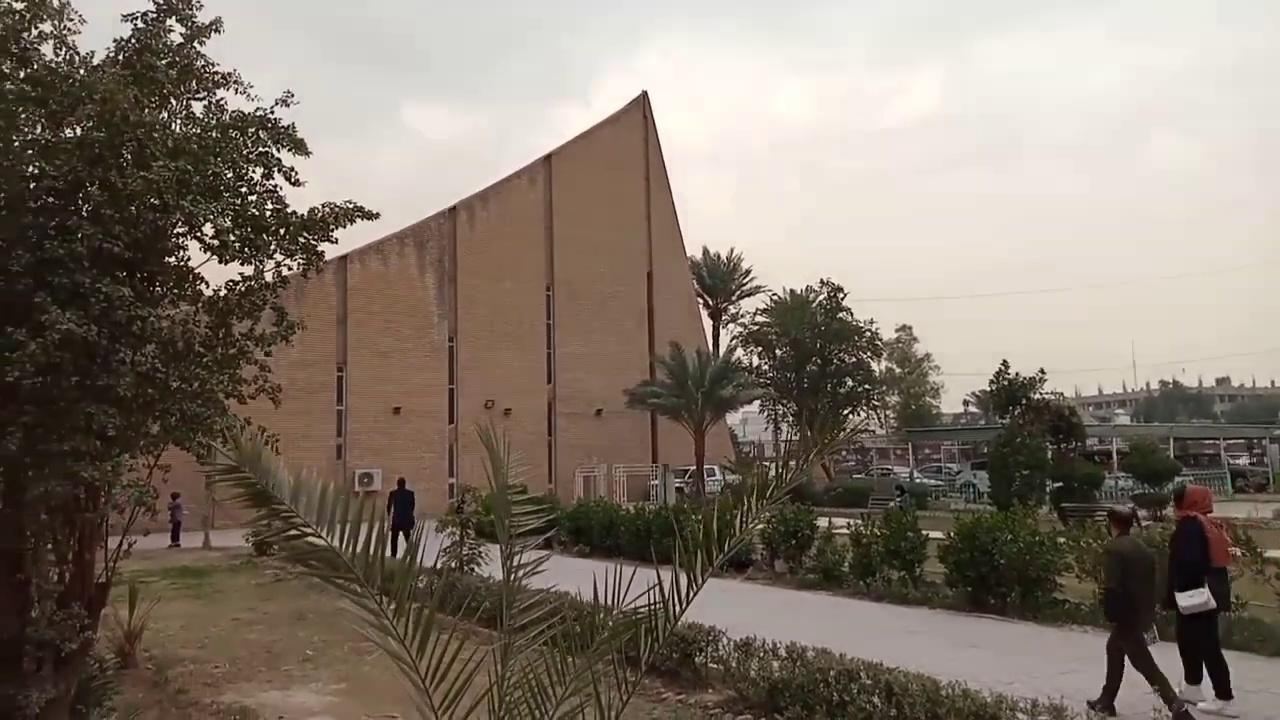car: (646, 463, 741, 502), (850, 464, 947, 500), (1077, 435, 1129, 463)
person: (1085, 504, 1196, 719), (1161, 483, 1241, 717), (385, 476, 415, 558), (166, 491, 188, 548), (891, 483, 911, 510)
tree: (0, 0, 380, 717), (735, 276, 887, 484), (622, 339, 766, 501), (935, 502, 1106, 619), (962, 357, 1089, 512), (685, 243, 767, 359), (843, 496, 929, 596), (875, 321, 944, 432), (985, 418, 1051, 512), (963, 357, 1049, 424), (100, 577, 161, 669), (1118, 435, 1183, 521), (758, 499, 818, 574), (1047, 451, 1105, 512), (1037, 398, 1087, 455)
